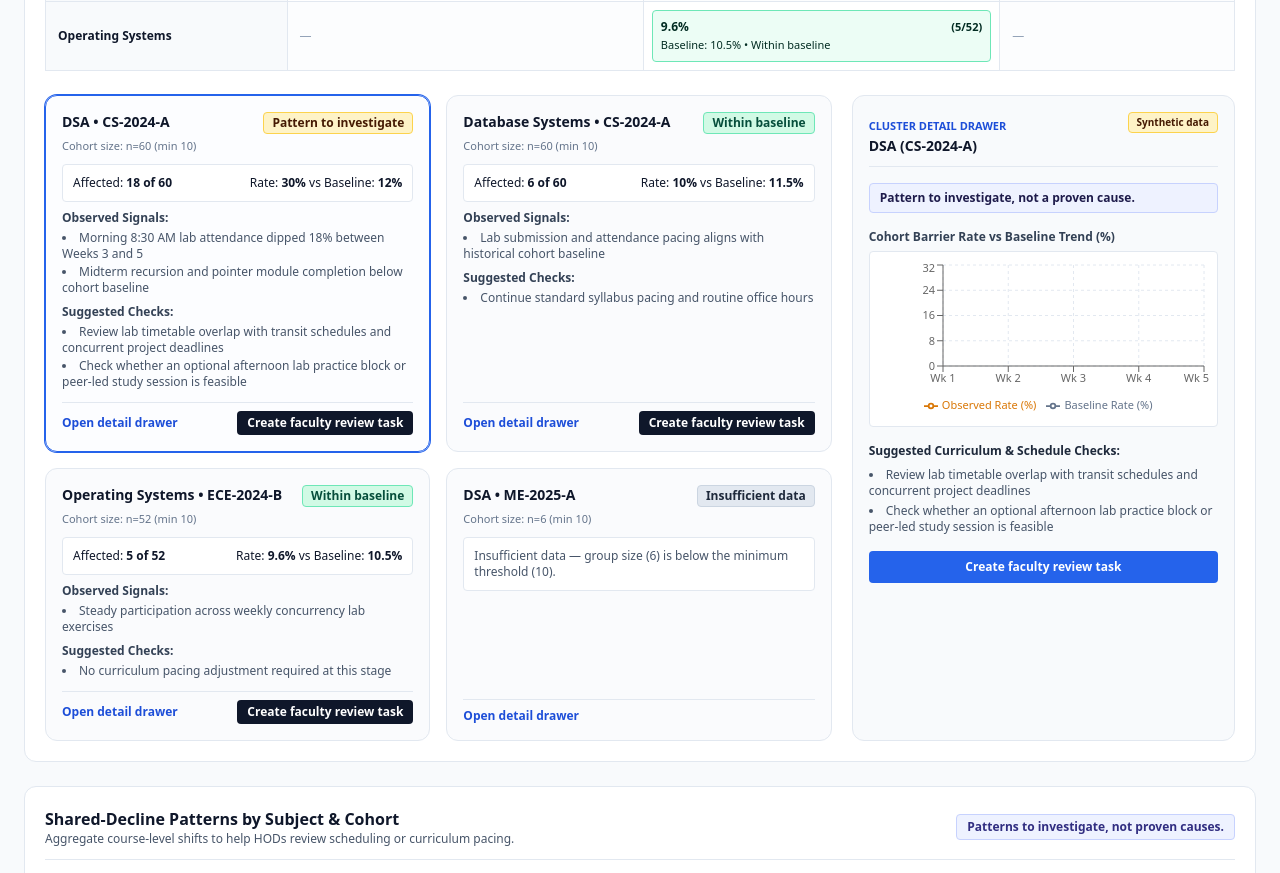
LearnTrack Frontend End-to-End Spec Verification › 9. renders Shared Barriers section (GET /api/analytics/clusters) with insufficient-data state, mandatory labels, no student names, and creates a faculty review
This screenshot has width=1280, height=873.
(page scrolled)
Expected: the button with aria-label "Heatmap cell Operating Systems ECE-2024-B: 9.6% rate" is shown, x1=652 y1=10 x2=991 y2=62
Step 1. Click the 1st button "Create faculty review task" → point(325, 423), box x1=237 y1=411 x2=413 y2=435
(page scrolled)
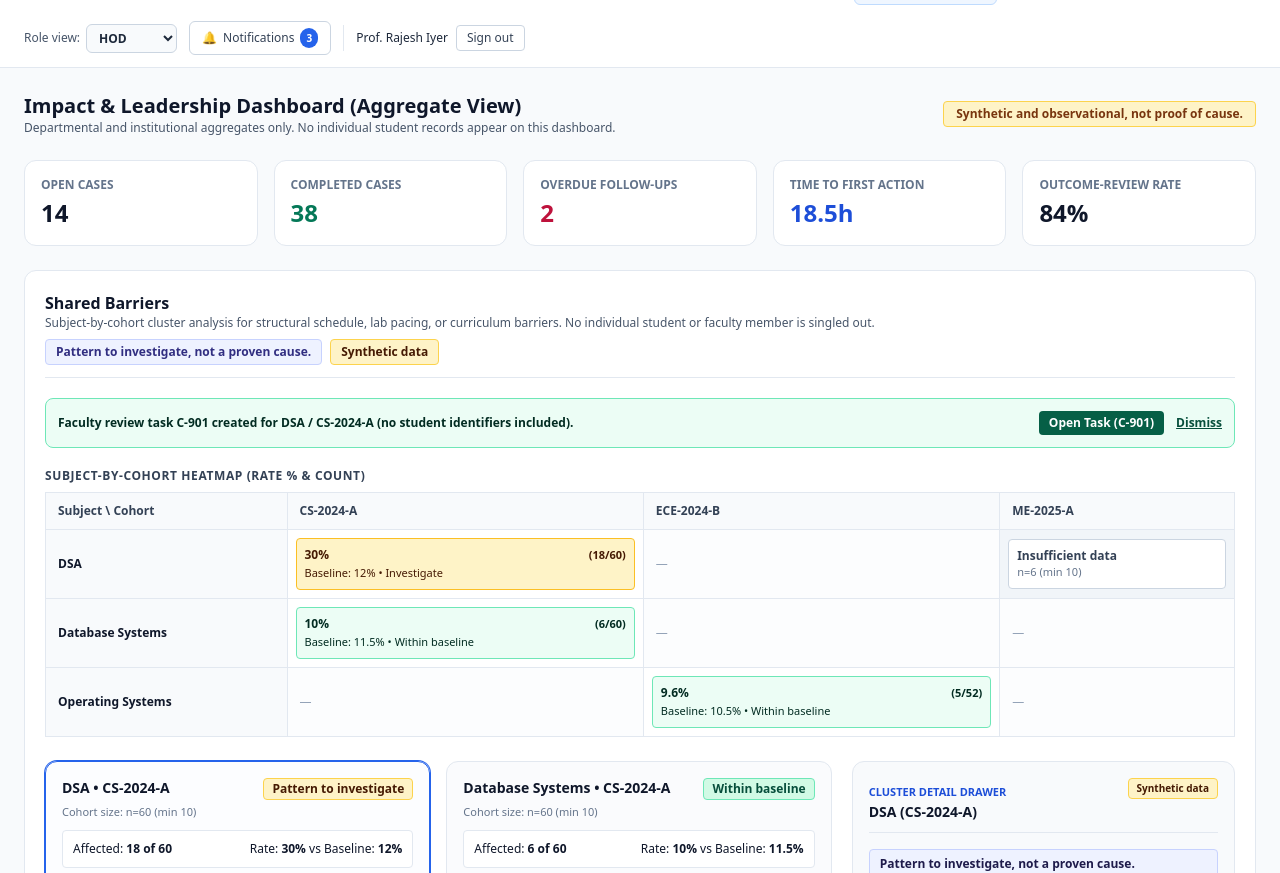
Expected: the column heading "CS-2024-A" is shown, x1=287 y1=492 x2=643 y2=530
Now the text "Faculty review task C-901 created" is shown, box x1=58 y1=414 x2=573 y2=431
